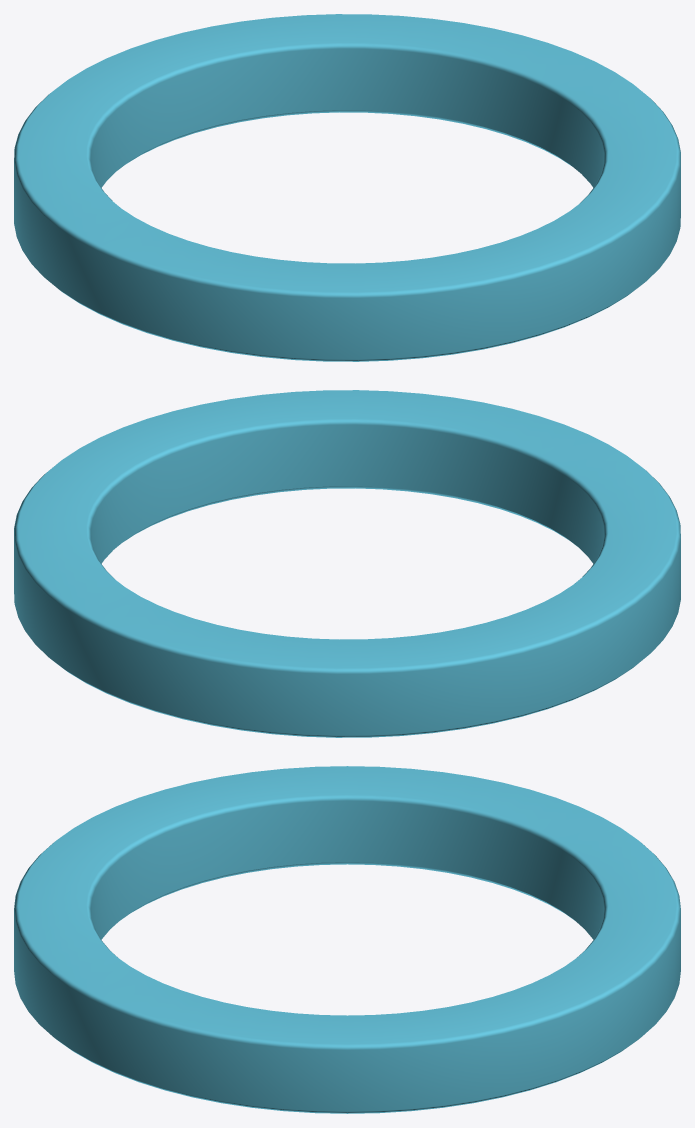
3 views of the same model, one above another, from view 1: azimuth 30°, elevation 25°; view 2: azimuth 150°, elevation 25°; view 3: azimuth 270°, elevation 25° (orthographic).
Visible parts, largest first — view 1: seal_body; view 2: seal_body; view 3: seal_body.
Boxes of the visible parts, x1,y1,x2,y2 form: seal_body: (14,14,680,361); seal_body: (14,390,680,737); seal_body: (14,766,680,1113).
Bounding box in the file's own units: 0.0413 × 0.00476 × 0.0413.
